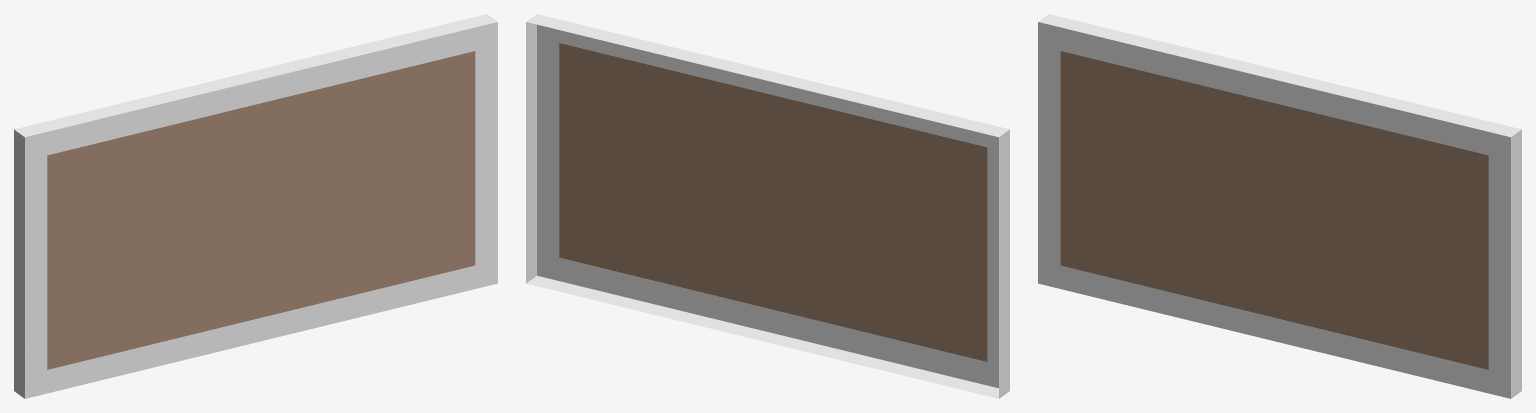
Rendered from Paint_7.fbx.
3 views of the same model, side by side, from view 1: azimuth 30°, elevation 25°; view 2: azimuth 150°, elevation 25°; view 3: azimuth 330°, elevation 25° (orthographic).
Parts seen in each view (by area): view 1: polySurface906; view 2: polySurface906; view 3: polySurface906.
Boxes of the visible parts, x1=… form: polySurface906: x1=14, y1=14, x2=497, y2=398; polySurface906: x1=526, y1=14, x2=1009, y2=398; polySurface906: x1=1038, y1=14, x2=1521, y2=398.
Size of the model in its own units: 2.12 by 1.12 by 0.084.
Materials: 1 (1 with a texture image).
